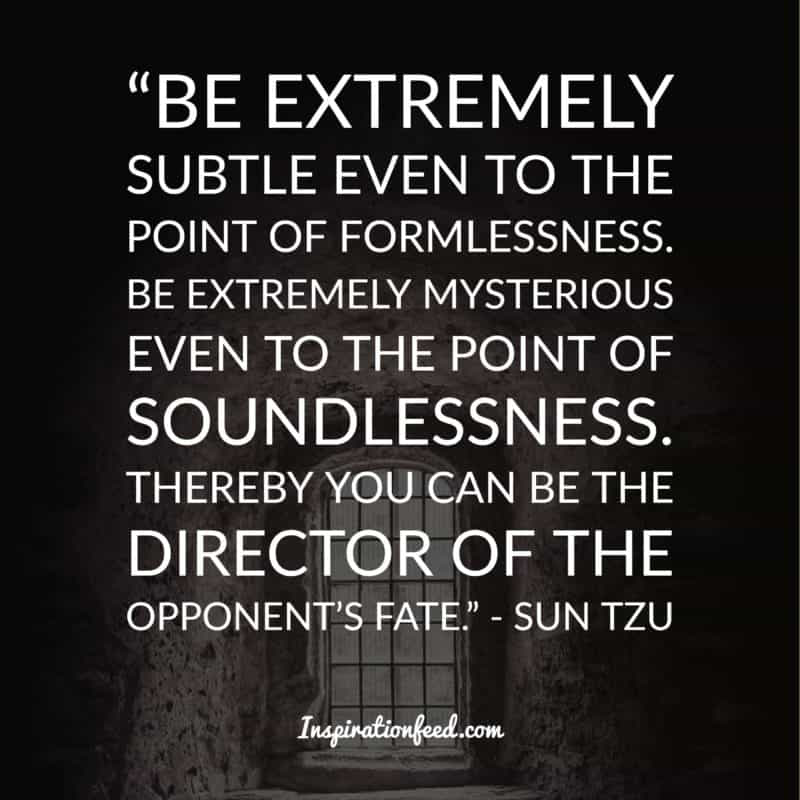latin: (124, 151, 676, 379), (122, 464, 676, 639), (154, 71, 675, 134), (124, 394, 676, 450)
